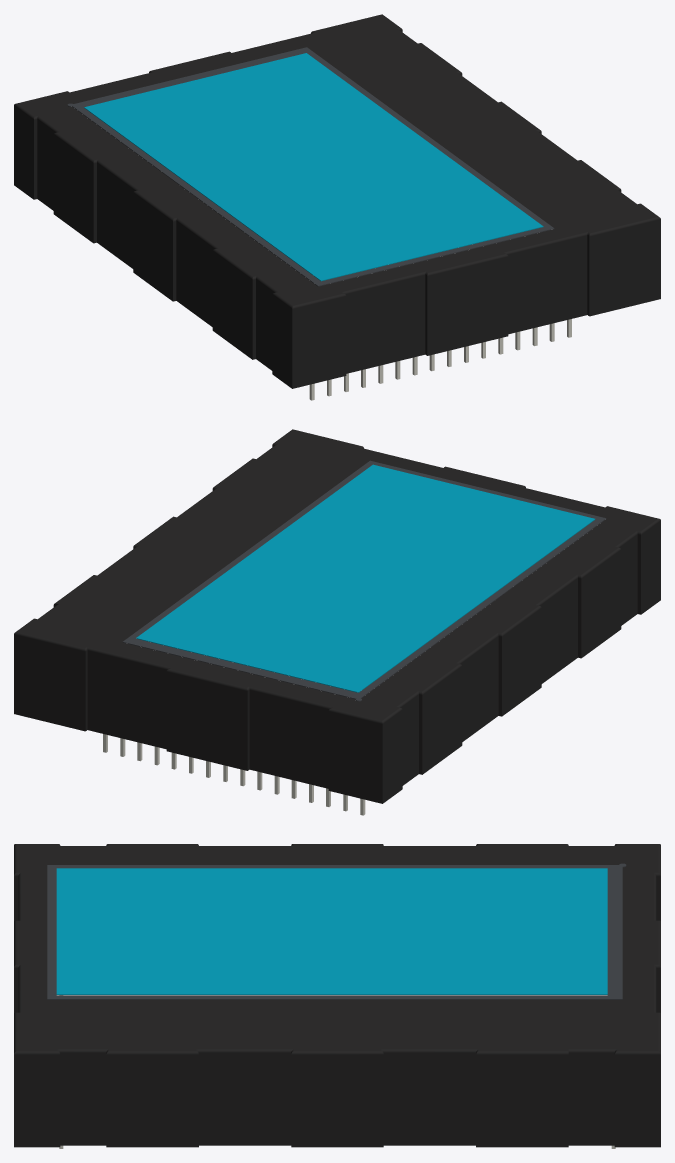
File: kc-ea-edip128b-xxx.glb
The picture shows the model from 3 angles, top to bottom: view 1: azimuth 30°, elevation 25°; view 2: azimuth 150°, elevation 25°; view 3: azimuth 270°, elevation 25°; orthographic projection. The views are drawn at different scales.
Parts seen in each view (by area): view 1: 0_0_0_0, 0_0.3333333333333333_0.5_0, 0.08333333333333333_0.08333333333333333_0.08333333333333333_, 0.6666666666666666_0.6666666666666666_0.5833333333333334_0.8; view 2: 0_0_0_0, 0_0.3333333333333333_0.5_0, 0.08333333333333333_0.08333333333333333_0.08333333333333333_, 0.6666666666666666_0.6666666666666666_0.5833333333333334_0.8; view 3: 0_0_0_0, 0_0.3333333333333333_0.5_0, 0.08333333333333333_0.08333333333333333_0.08333333333333333_.
Boxes of the visible parts, bbox=[...] form: 0_0_0_0: bbox=[14, 14, 660, 388]; 0_0.3333333333333333_0.5_0: bbox=[84, 53, 543, 281]; 0.08333333333333333_0.08333333333333333_0.08333333333333333_: bbox=[67, 47, 554, 286]; 0.6666666666666666_0.6666666666666666_0.5833333333333334_0.8: bbox=[309, 319, 571, 400]; 0_0_0_0: bbox=[14, 429, 660, 803]; 0_0.3333333333333333_0.5_0: bbox=[136, 464, 595, 692]; 0.08333333333333333_0.08333333333333333_0.08333333333333333_: bbox=[122, 460, 606, 701]; 0.6666666666666666_0.6666666666666666_0.5833333333333334_0.8: bbox=[103, 734, 365, 815]; 0_0_0_0: bbox=[14, 844, 660, 1147]; 0_0.3333333333333333_0.5_0: bbox=[56, 868, 607, 994]; 0.08333333333333333_0.08333333333333333_0.08333333333333333_: bbox=[47, 863, 626, 999].
Size of the model in its own units: 5.46 by 1.68 by 7.14.
